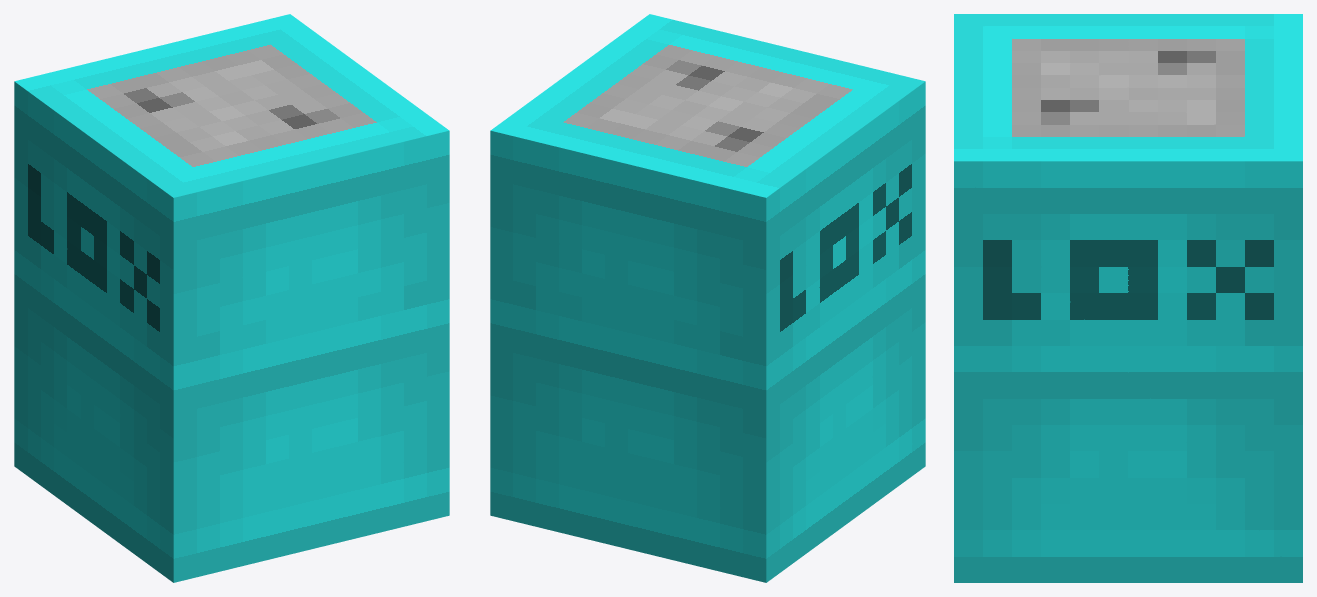
The model's file is barrel_lox.obj.
3 renders of one model, left to right at view 1: azimuth 30°, elevation 25°; view 2: azimuth 150°, elevation 25°; view 3: azimuth 270°, elevation 25°, orthographic. The views are drawn at different scales.
Visible parts, largest first — view 1: Barrel; view 2: Barrel; view 3: Barrel.
Boxes of the visible parts, x1,y1,x2,y2 form: Barrel: (14,14,449,582); Barrel: (490,14,925,582); Barrel: (954,14,1302,582).
Bounding box in the file's own units: 0.875 × 1 × 0.75.
